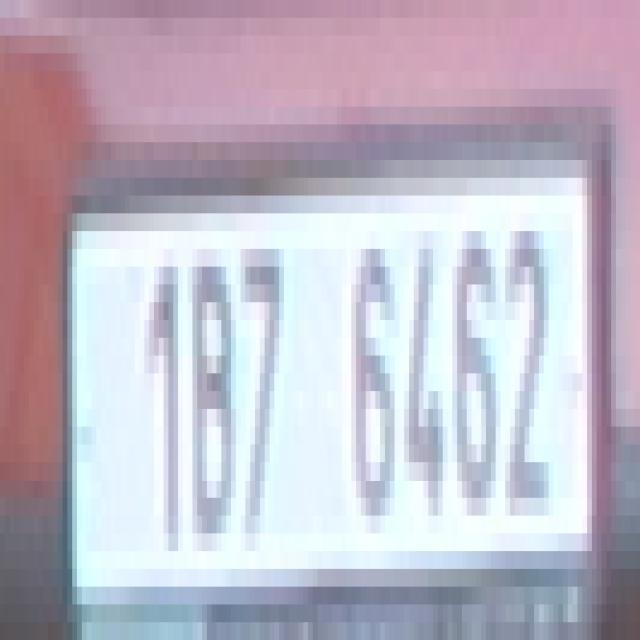1: (144, 214, 178, 534)
2: (506, 195, 554, 516)
4: (404, 214, 448, 516)
6: (448, 213, 500, 498), (342, 195, 389, 498)
7: (246, 214, 280, 534)
B: (183, 266, 231, 534)
